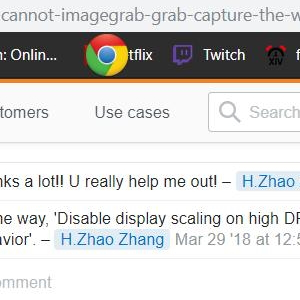chrome: (85, 32, 129, 77)
